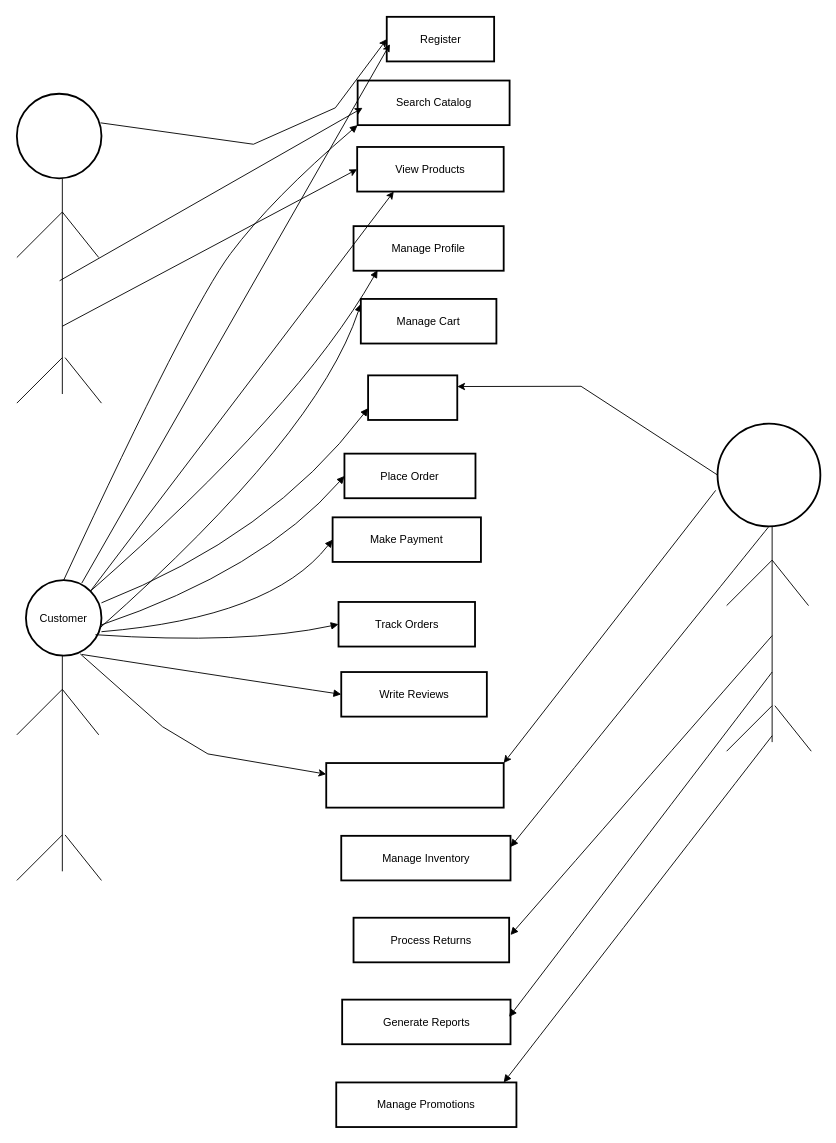
The diagram is 836 pixels wide and 1143 high, and some of its shapes have lost their labels. Here are the shapes that lost their labels. From the top down, the centre of each, then its label:
(58,135): Guest User
(412,397): Login
(768,474): Administrator
(414,785): View Order History
